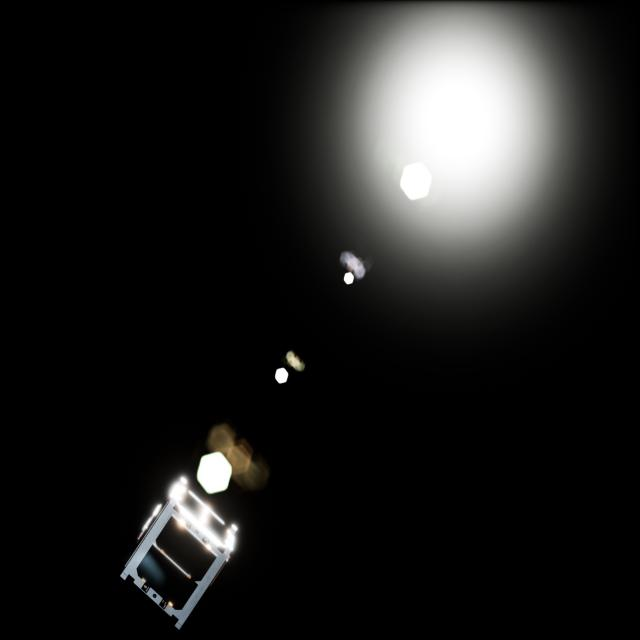satellite: (114, 468, 245, 626)
